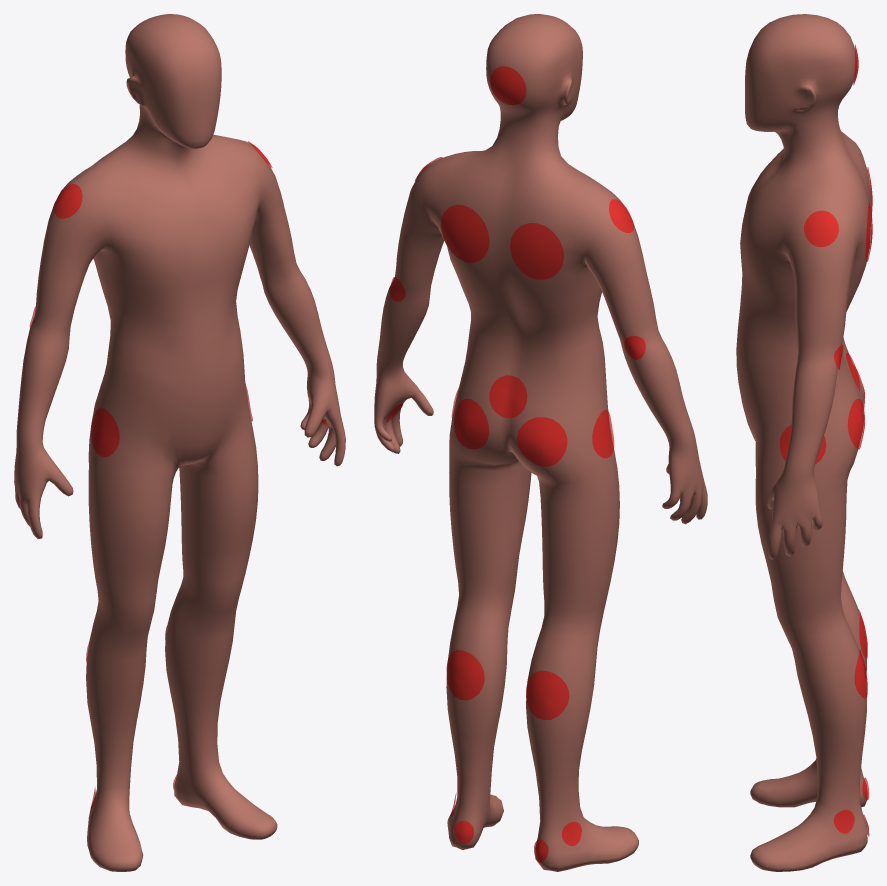
Rendered from Presurepoint_manequin.FBX.
3 views of the same model, side by side, from view 1: azimuth 30°, elevation 25°; view 2: azimuth 150°, elevation 25°; view 3: azimuth 270°, elevation 25° (orthographic).
Parts seen in each view (by area): view 1: Manequin, Point_R_Hip, Point_R_Deltoid; view 2: Manequin, Point_R_Shoulder, Point_L_Shoulder, Point_R_Gluteus_M, Point_R_Calf, Point_L_Calf, Point_L_Gluteus_M, Point_Tail_Bone, Point_Head, Point_R_Hip; view 3: Manequin, Point_L_Deltoid, Point_L_Gluteus_M, Point_L_Calf, Point_L_Hip, Point_L_Ankle, Point_L_Shoulder.
Boxes of the visible parts, bbox=[...] form: Manequin: bbox=[14, 14, 345, 871]; Point_R_Hip: bbox=[91, 408, 119, 456]; Point_R_Deltoid: bbox=[54, 184, 82, 218]; Manequin: bbox=[374, 14, 707, 871]; Point_R_Shoulder: bbox=[510, 223, 563, 279]; Point_L_Shoulder: bbox=[441, 204, 489, 262]; Point_R_Gluteus_M: bbox=[517, 417, 567, 466]; Point_R_Calf: bbox=[526, 670, 569, 720]; Point_L_Calf: bbox=[446, 650, 484, 700]; Point_L_Gluteus_M: bbox=[454, 398, 489, 449]; Point_Tail_Bone: bbox=[489, 375, 527, 418]; Point_Head: bbox=[490, 66, 526, 105]; Point_R_Hip: bbox=[592, 410, 614, 458]; Manequin: bbox=[736, 14, 870, 871]; Point_L_Deltoid: bbox=[804, 210, 838, 246]; Point_L_Gluteus_M: bbox=[847, 398, 864, 449]; Point_L_Calf: bbox=[854, 650, 867, 698]; Point_L_Hip: bbox=[779, 424, 826, 464]; Point_L_Ankle: bbox=[833, 810, 854, 833]; Point_L_Shoulder: bbox=[865, 202, 872, 261].
Size of the model in its own units: 73.3 by 180 by 27.34.
